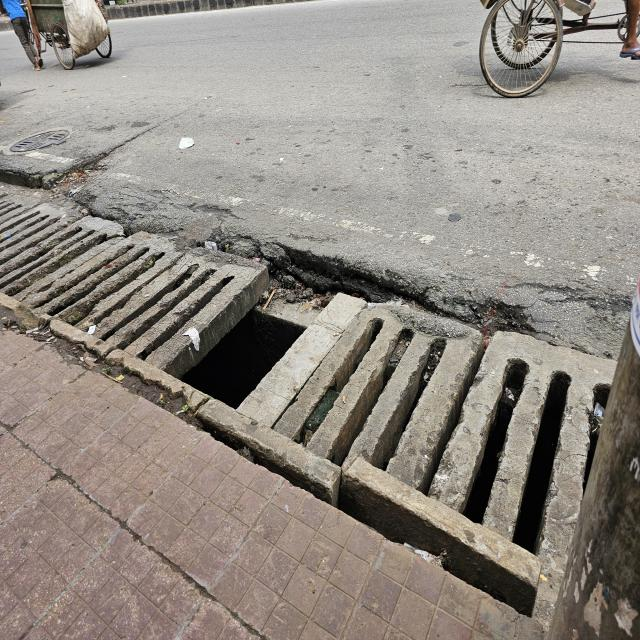drain_inlet: (170, 301, 313, 411)
